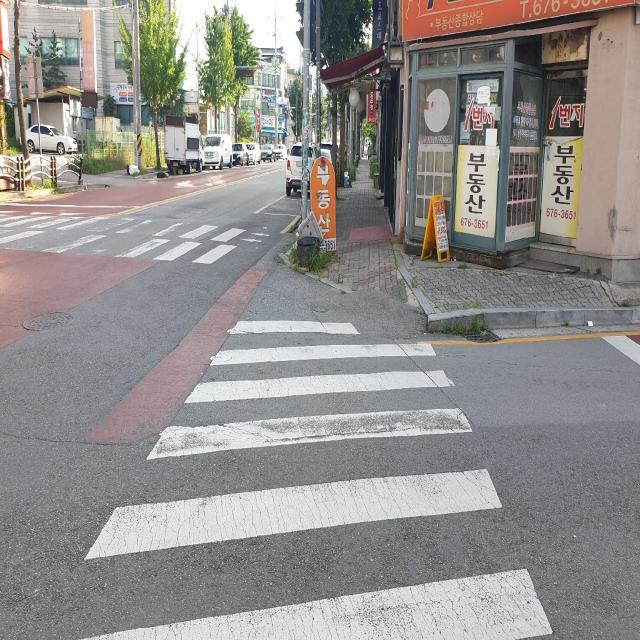횡단보도: (80, 314, 557, 640), (0, 207, 269, 261)
